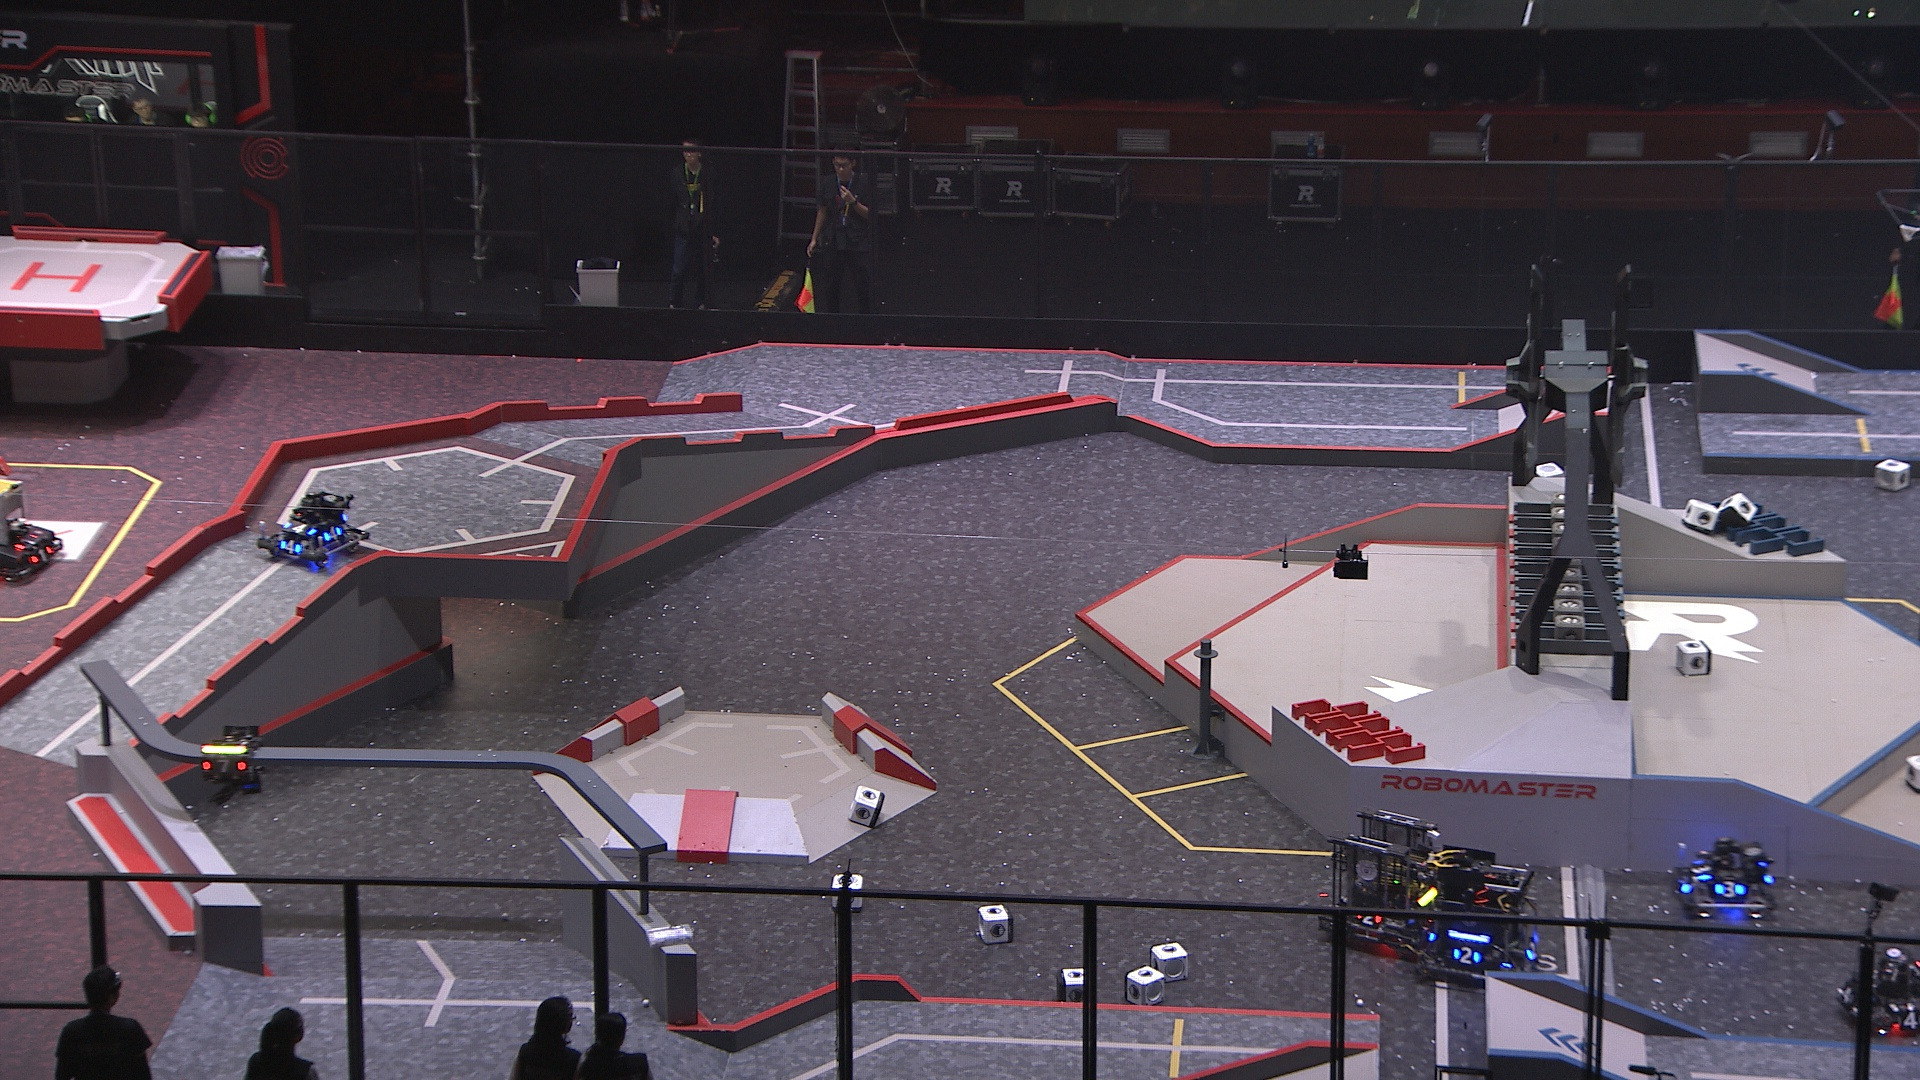armor: (200, 754, 247, 775), (26, 542, 55, 567), (1713, 878, 1747, 898), (1452, 944, 1481, 967), (1688, 858, 1712, 884), (282, 520, 316, 537), (1356, 906, 1385, 926), (1524, 932, 1543, 963), (278, 535, 305, 556), (16, 529, 40, 551), (320, 522, 344, 545), (1677, 868, 1698, 893), (1898, 1010, 1920, 1031), (1837, 982, 1855, 1007)
car: (1414, 847, 1543, 986), (1317, 808, 1443, 945), (251, 487, 373, 572), (1673, 833, 1782, 920), (1832, 945, 1920, 1039)
watcher: (195, 723, 264, 806)
